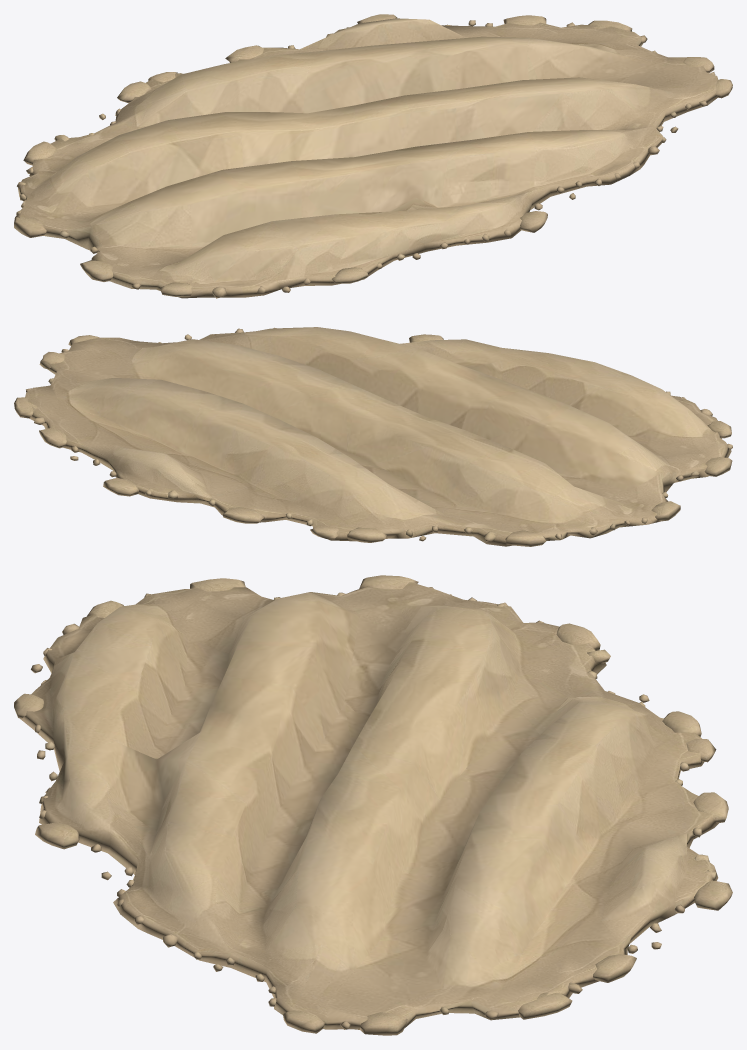
The model's file is Sandy_Furrows.glb.
The picture shows the model from 3 angles, top to bottom: view 1: azimuth 30°, elevation 25°; view 2: azimuth 150°, elevation 25°; view 3: azimuth 270°, elevation 25°; orthographic projection. The views are drawn at different scales.
Bounding box in the file's own units: 1 × 0.071 × 0.6738.
Materials: 1 (1 with a texture image).
